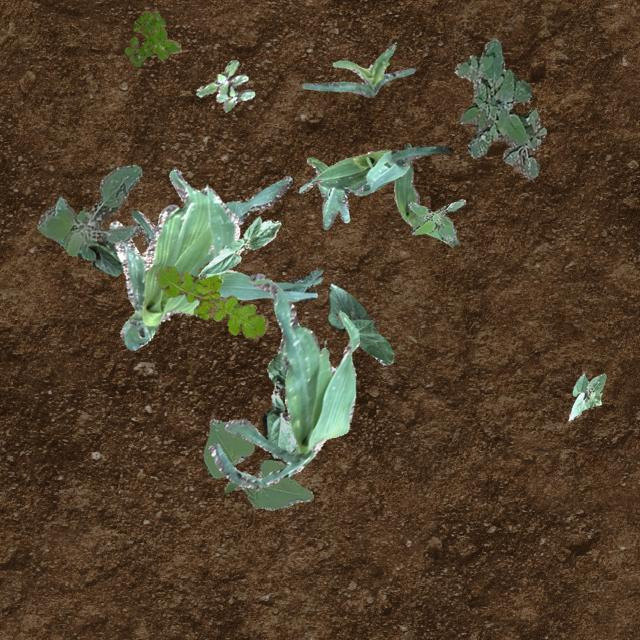crop: (208, 272, 358, 488), (130, 174, 322, 300), (109, 168, 238, 350), (298, 144, 452, 228), (202, 418, 312, 510), (393, 142, 458, 246), (300, 44, 414, 96), (328, 282, 393, 364), (198, 215, 280, 278), (262, 348, 296, 459), (54, 238, 122, 274), (566, 372, 604, 420)
weed: (454, 36, 546, 178), (36, 164, 140, 255), (154, 262, 266, 338), (124, 8, 180, 66), (196, 58, 253, 110), (406, 198, 464, 242)
